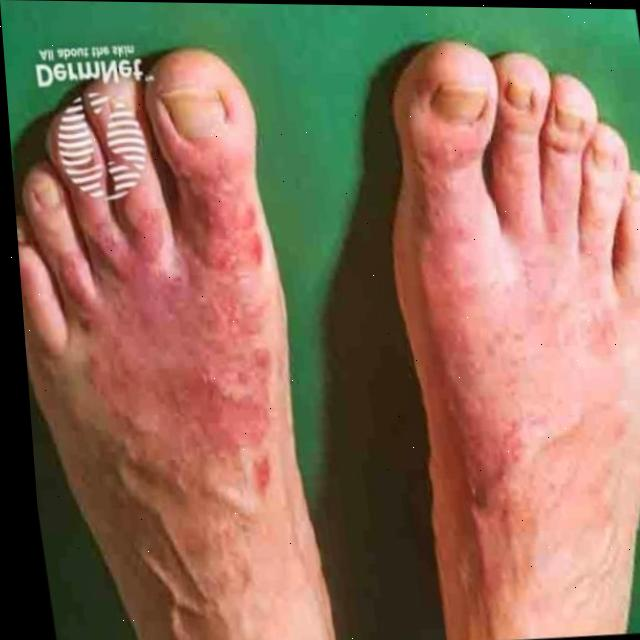Eczema: (397, 112, 640, 618), (18, 175, 286, 528)
